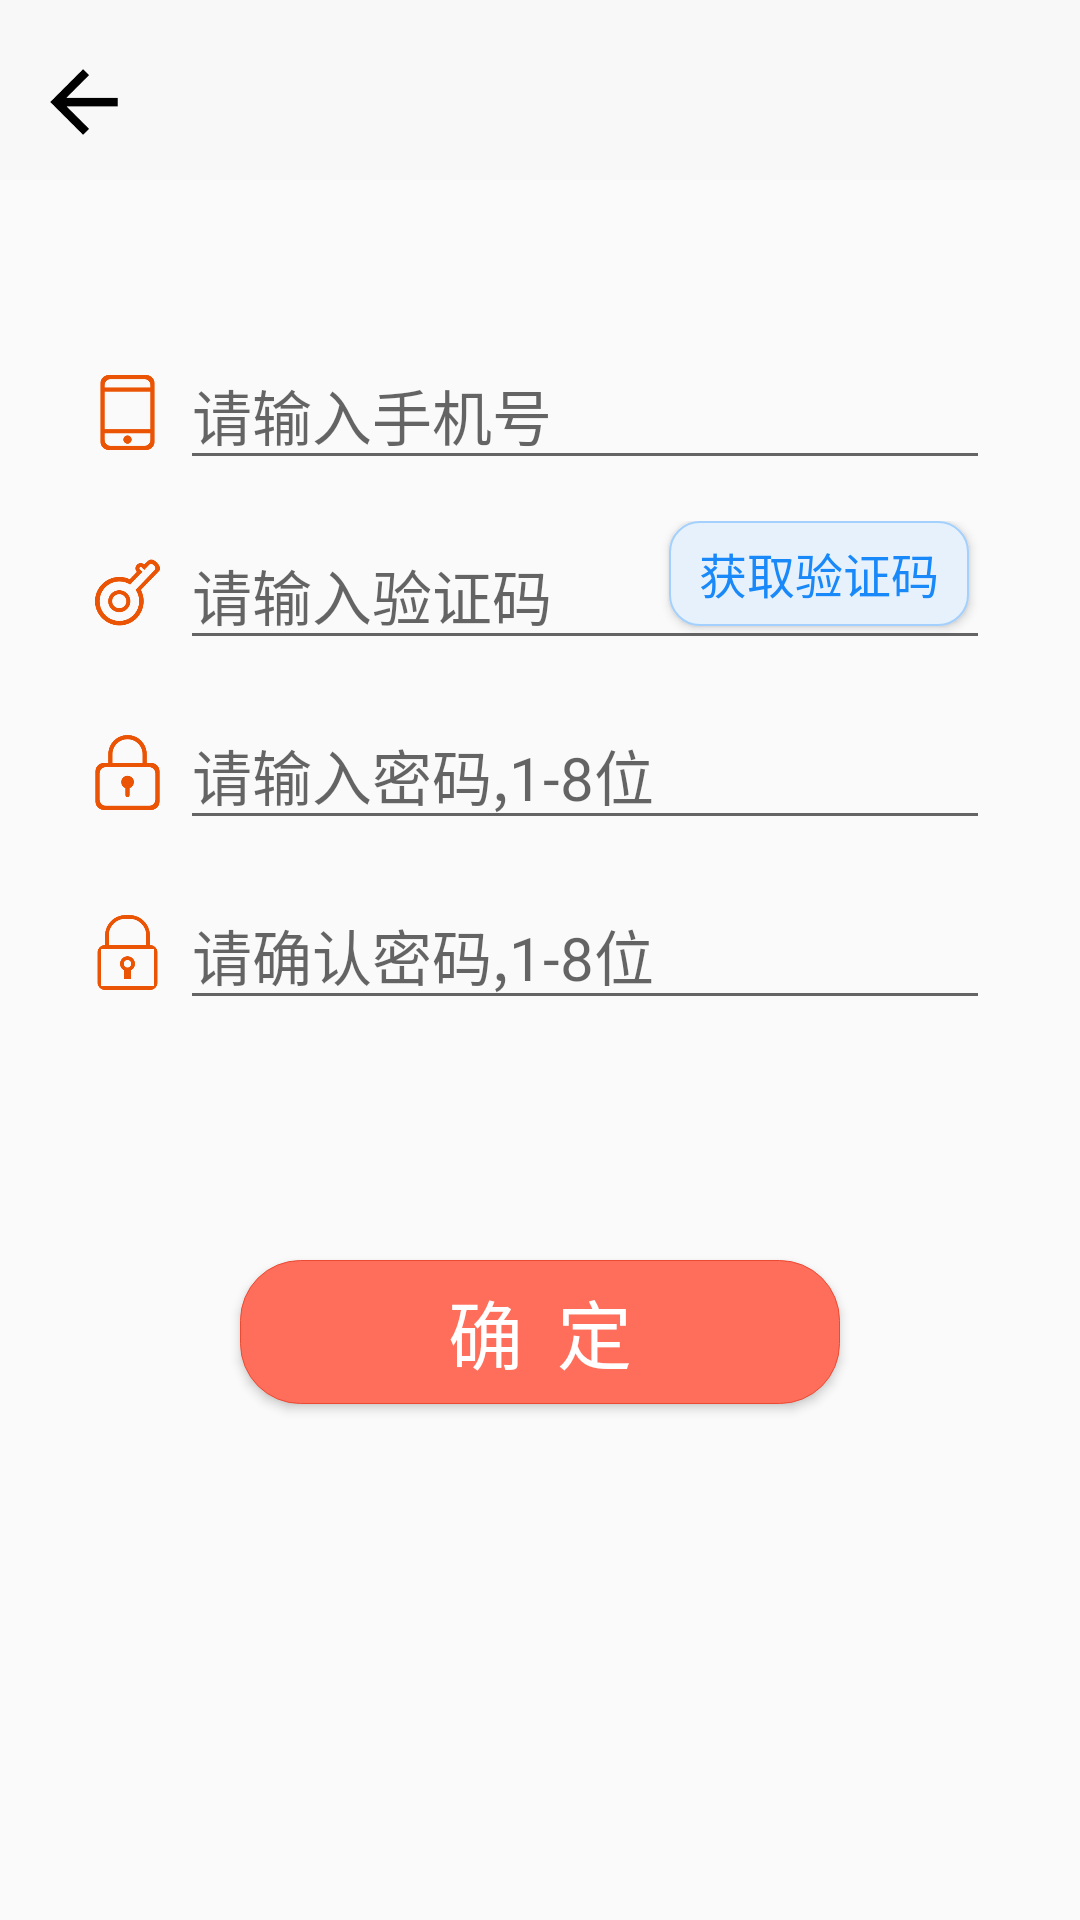

Where to tap for icons on this 1080*1920 app screen, as [x,y]:
back: [84,102]
register pw: [127,772]
register pw re: [127,952]
register tel: [127,412]
verfication code: [127,592]
